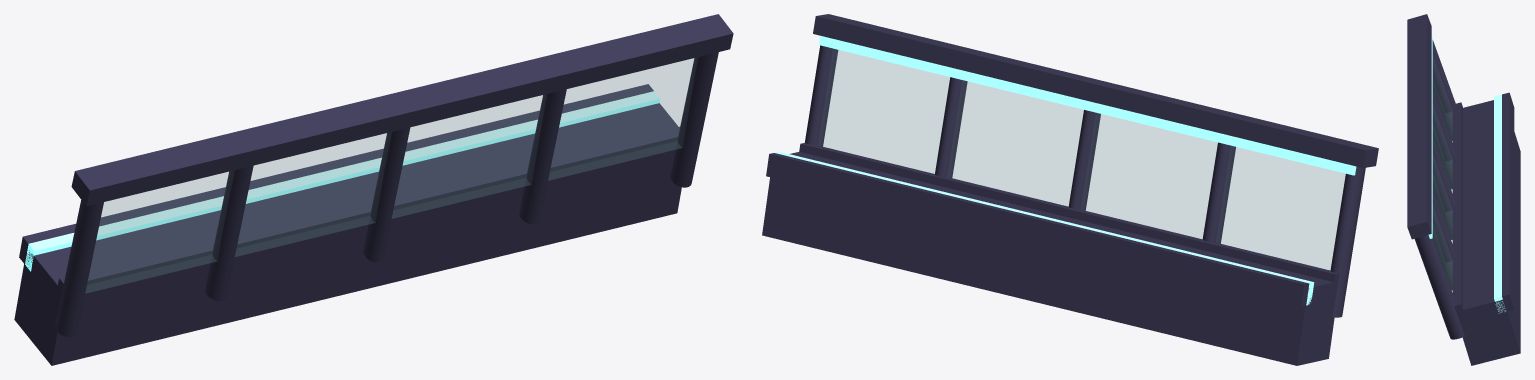
The model's file is Railing_Test.fbx.
3 views of the same model, side by side, from view 1: azimuth 30°, elevation 25°; view 2: azimuth 150°, elevation 25°; view 3: azimuth 270°, elevation 25° (orthographic). The views are drawn at different scales.
Visible parts, largest first — view 1: Cube.011, Cube.016, Cube.017, Cube.013, Cube.012, Cube.015, Cylinder.018, Cylinder.017, Cylinder.014, Cylinder.015, Cylinder.013; view 2: Cube.016, Cube.011, Cube.015, Cube.017, Cube.013, Cube.018, Cylinder.018, Cylinder.014, Cylinder.017, Cylinder.015, Cylinder.013, Cube.012; view 3: Cube.011, Cube.017, Cube.015, Cube.013, Cylinder.017, Cube.012, Cube.016, Cylinder.014, Cylinder.013, Cylinder.015, Cylinder.018, Cube.018.
Part boxes in pixels (box(x1,y1,x2,y2)): Cube.011: box(14, 103, 681, 365); Cube.016: box(85, 58, 694, 292); Cube.017: box(71, 14, 733, 206); Cube.013: box(55, 126, 679, 303); Cube.012: box(25, 91, 660, 271); Cube.015: box(19, 84, 653, 264); Cylinder.018: box(55, 200, 103, 337); Cylinder.017: box(670, 52, 718, 187); Cylinder.014: box(205, 165, 253, 300); Cylinder.015: box(519, 89, 566, 224); Cylinder.013: box(363, 127, 410, 262); Cube.016: box(823, 50, 1345, 269); Cube.011: box(762, 152, 1335, 365); Cube.015: box(766, 153, 1309, 306); Cube.017: box(813, 14, 1378, 167); Cube.013: box(799, 143, 1339, 295); Cube.018: box(819, 35, 1356, 175); Cylinder.018: box(1330, 166, 1365, 317); Cylinder.014: box(1202, 142, 1235, 243); Cylinder.017: box(805, 45, 838, 146); Cylinder.015: box(935, 77, 967, 177); Cylinder.013: box(1068, 110, 1100, 210); Cube.012: box(774, 151, 1314, 305); Cube.011: box(1456, 100, 1520, 365); Cube.017: box(1407, 14, 1431, 239); Cube.015: box(1502, 92, 1514, 311); Cube.013: box(1452, 102, 1462, 311); Cylinder.017: box(1414, 235, 1464, 339); Cube.012: box(1494, 94, 1505, 313); Cube.016: box(1433, 78, 1452, 291); Cylinder.014: box(1432, 88, 1456, 189); Cylinder.013: box(1432, 139, 1456, 239); Cylinder.015: box(1432, 189, 1456, 290); Cylinder.018: box(1432, 40, 1456, 140); Cube.018: box(1428, 34, 1432, 238).
Bounding box in the file's own units: 664 × 219 × 153.
